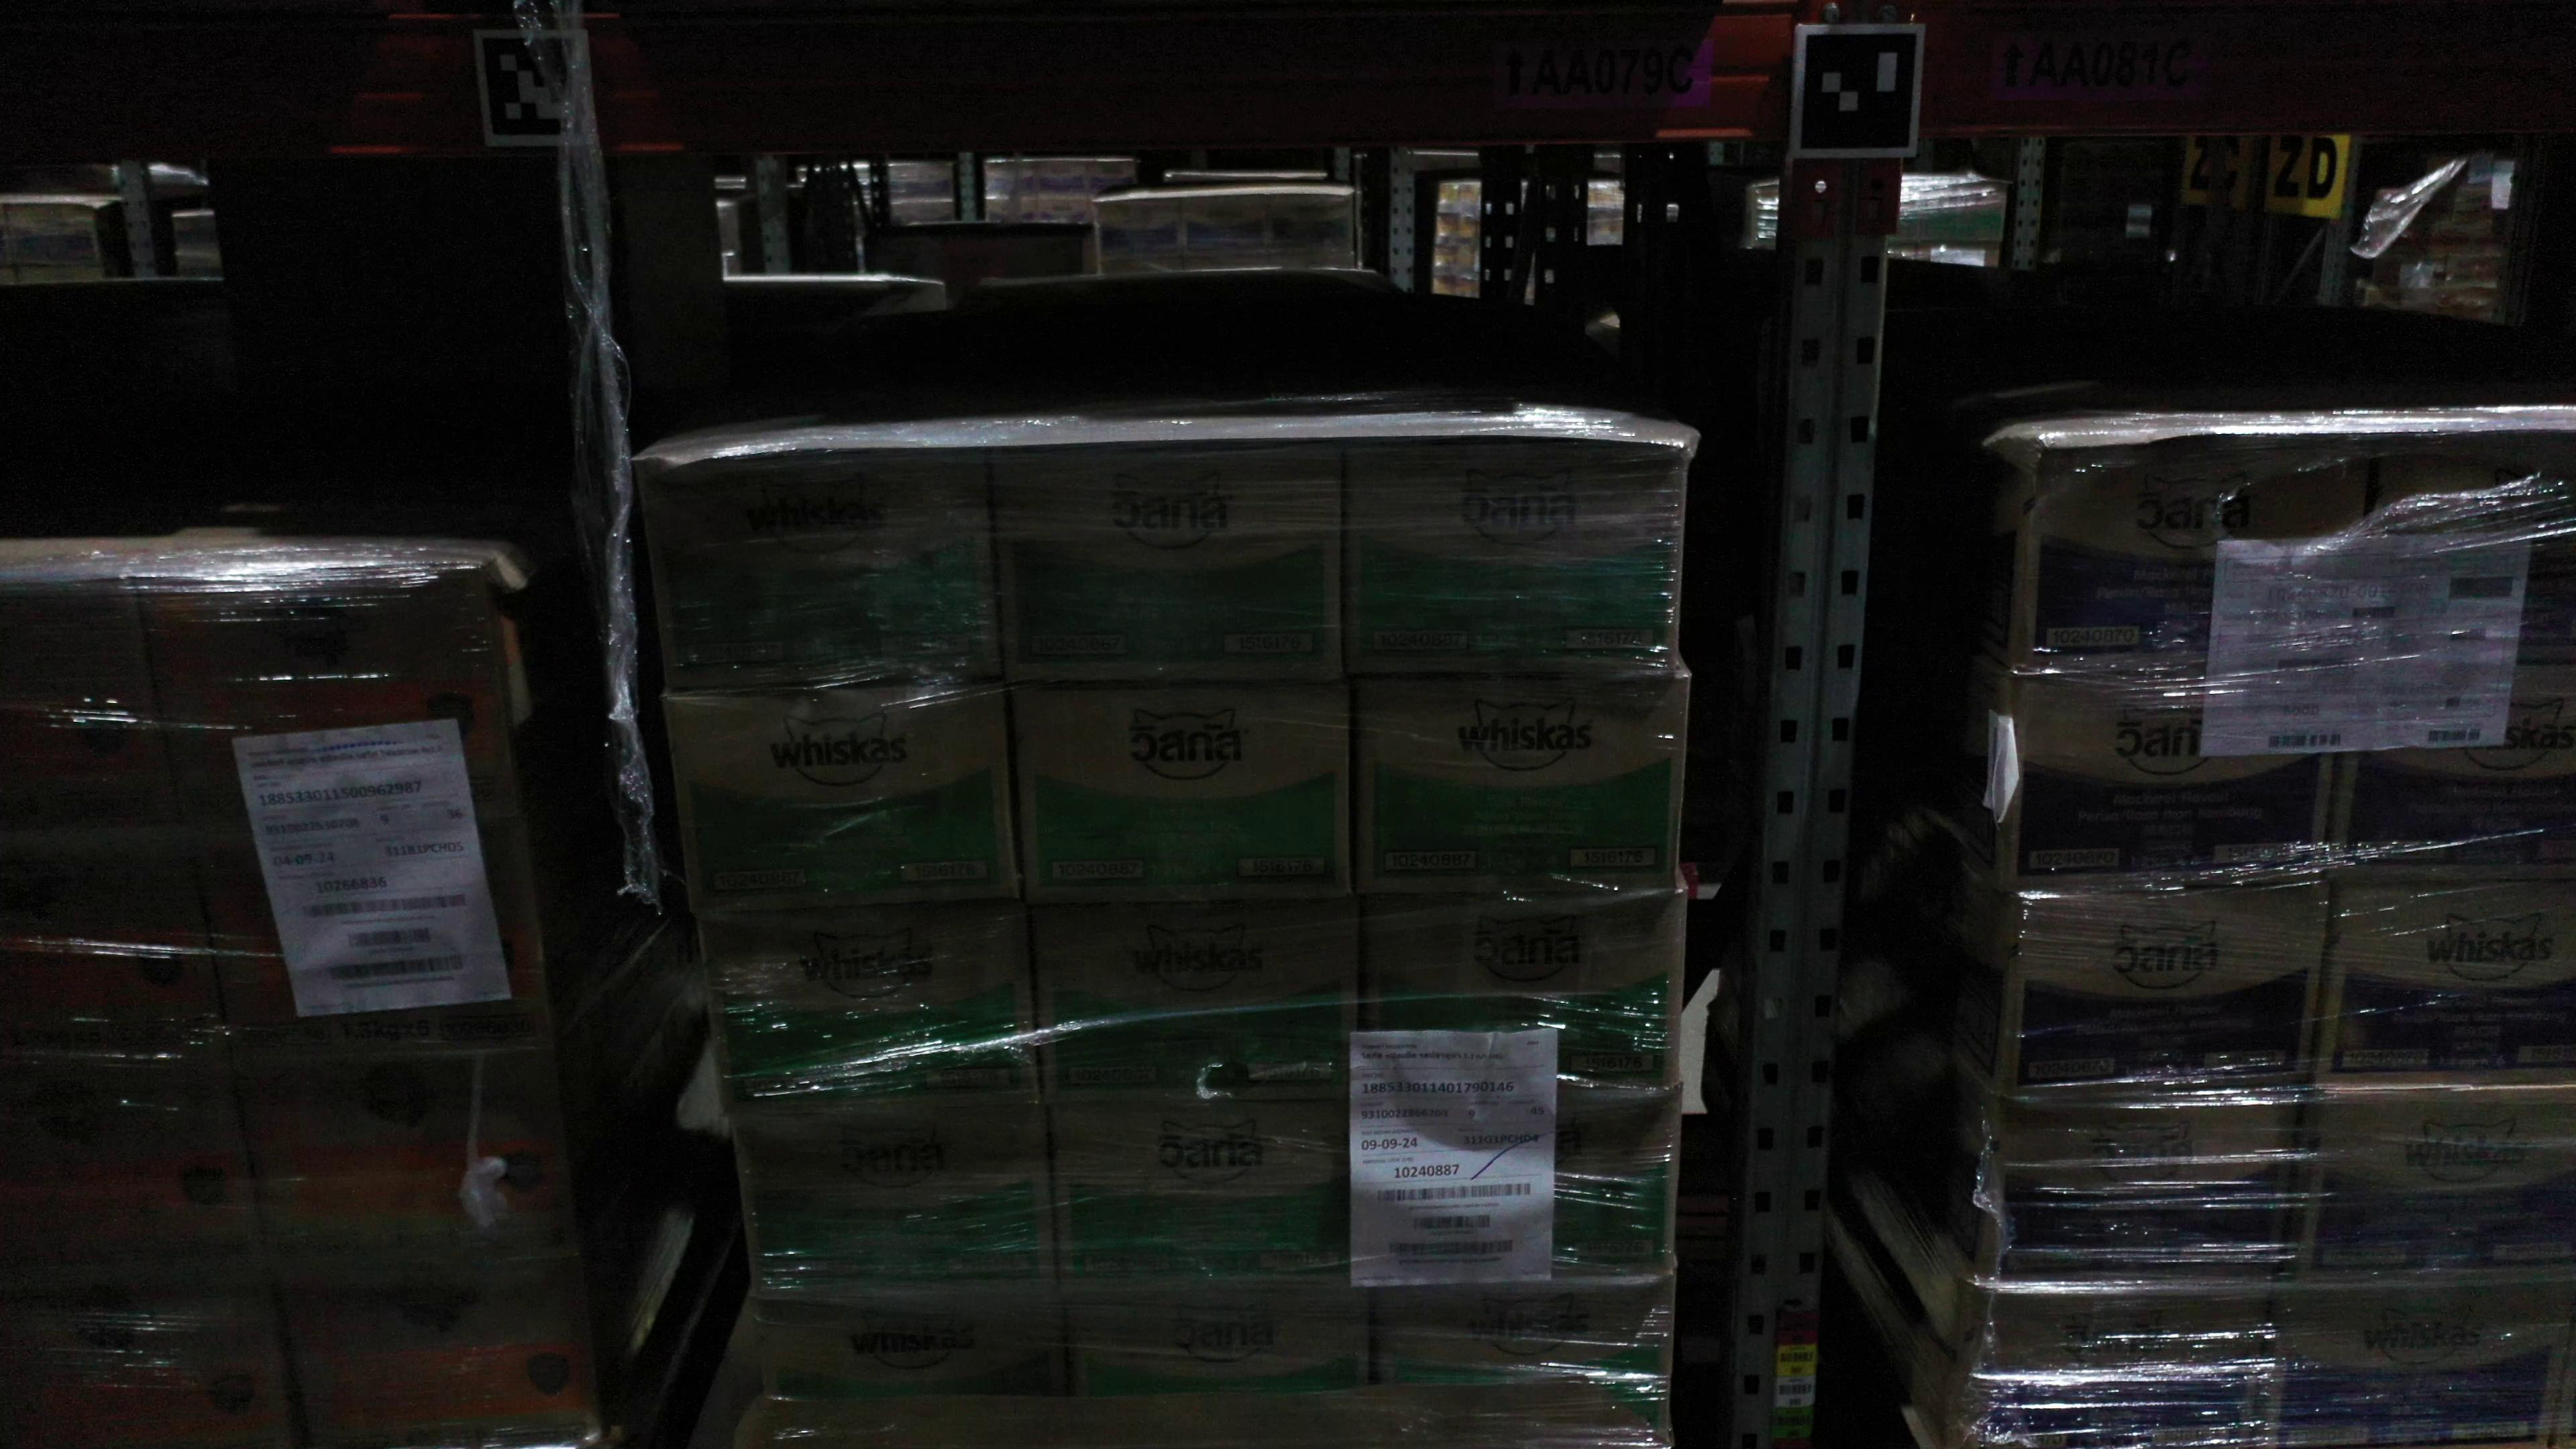-: (133, 573, 525, 828), (635, 441, 1008, 695), (186, 821, 557, 1065), (989, 433, 1346, 681), (2026, 439, 2373, 686), (662, 681, 1017, 916), (1341, 433, 1686, 672), (1008, 679, 1353, 906), (2008, 669, 2350, 895), (1990, 888, 2335, 1104), (701, 901, 1044, 1113), (1357, 676, 1688, 895), (1359, 892, 1691, 1104), (232, 1056, 582, 1256), (1028, 895, 1357, 1104), (731, 1108, 1058, 1306), (272, 1254, 603, 1449), (1983, 1092, 2305, 1290), (1051, 1102, 1366, 1293), (1366, 1095, 1677, 1286), (2307, 876, 2576, 1093), (2281, 1090, 2576, 1286), (1950, 1279, 2281, 1449), (0, 1261, 299, 1449), (2357, 430, 2576, 685), (0, 1062, 265, 1269), (0, 832, 232, 1065), (2256, 1281, 2576, 1449), (2330, 669, 2576, 883), (1373, 1283, 1675, 1440), (0, 587, 188, 837), (1065, 1290, 1378, 1396), (757, 1297, 1074, 1399)
